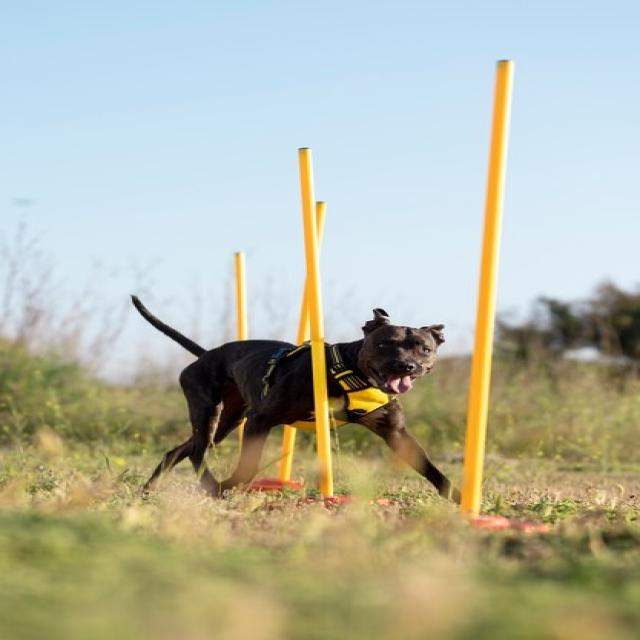Dog: (132, 295, 472, 504)
